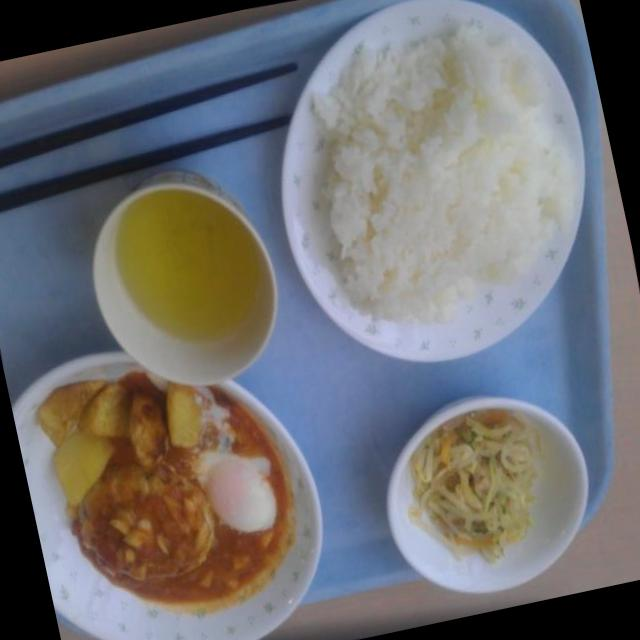Rice: (268, 3, 604, 366)
